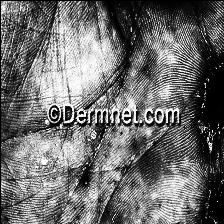Non-Cancerous Skin Condition: (195, 53, 224, 150), (199, 174, 224, 207)
